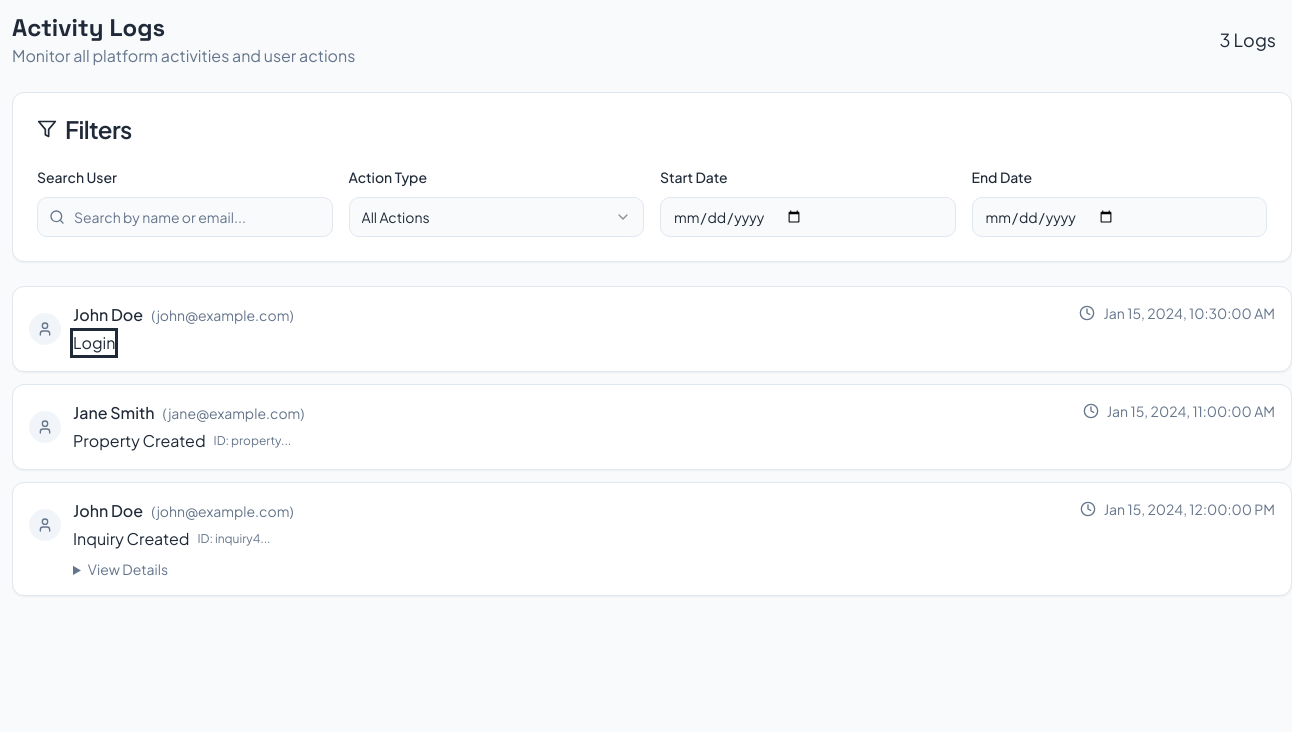
Test: ActivityLog Component › Filtering › should display empty state when no logs match filters
The width and height of the screenshot is (1292, 732).
Type "NonexistentUser" into the field with placeholder "Search by name or email..." at (185, 217), box [37, 197, 332, 237]
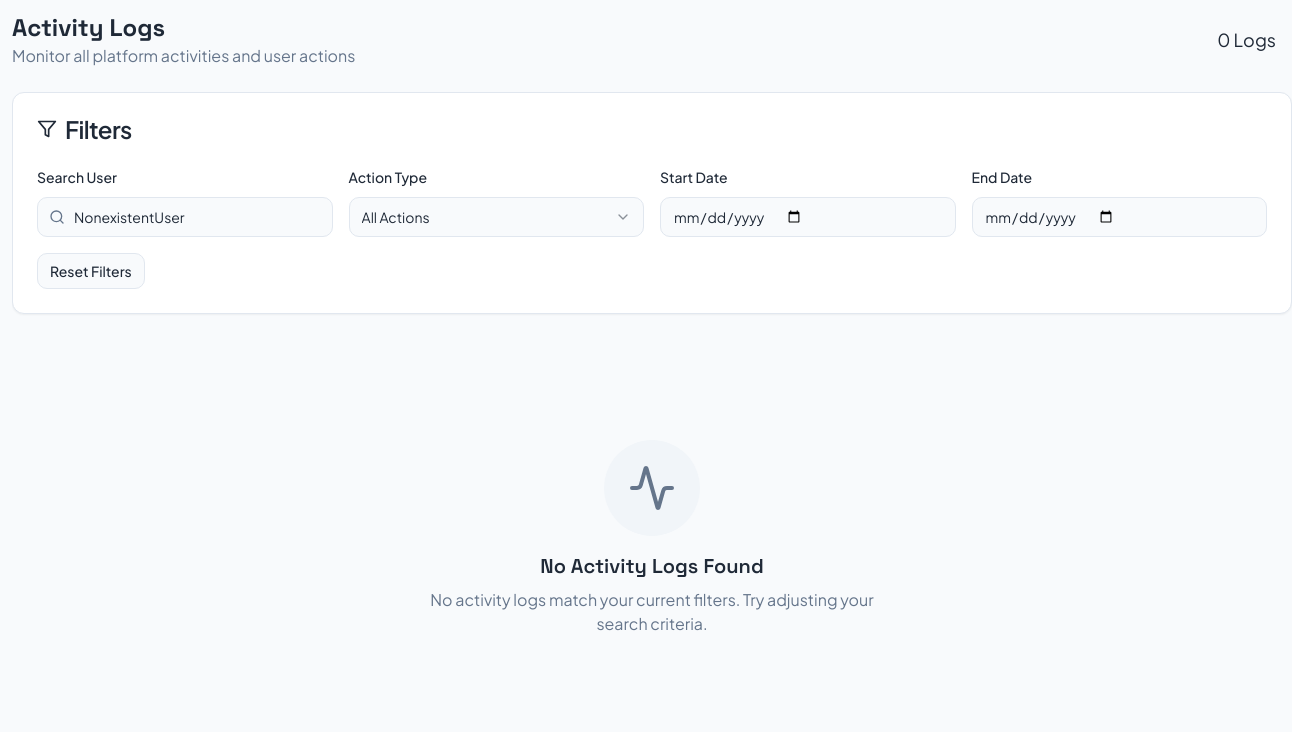
Expected: the heading "No Activity Logs Found" is shown, [540, 552, 764, 580]
Expected: the text "No activity logs match your current filters" is shown, [430, 589, 874, 634]
